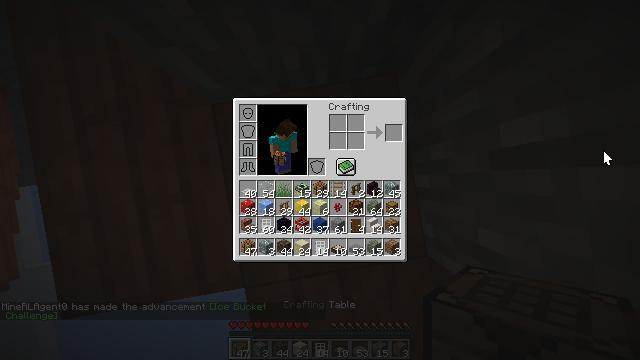cursor: (603, 150, 613, 166)
